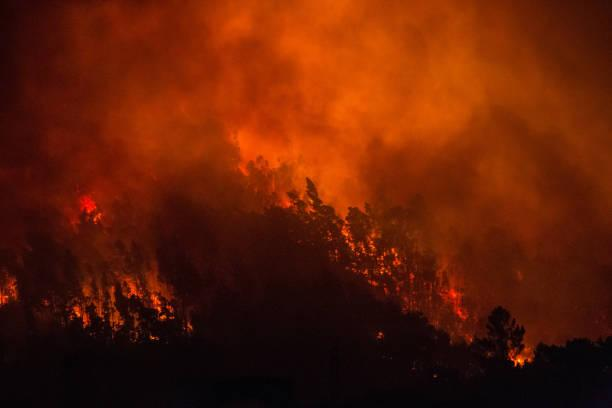Fire: (78, 42, 546, 360)
